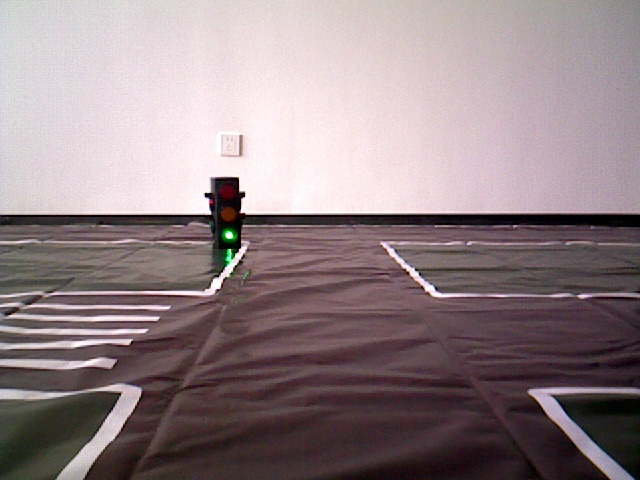green: (208, 180, 242, 246)
